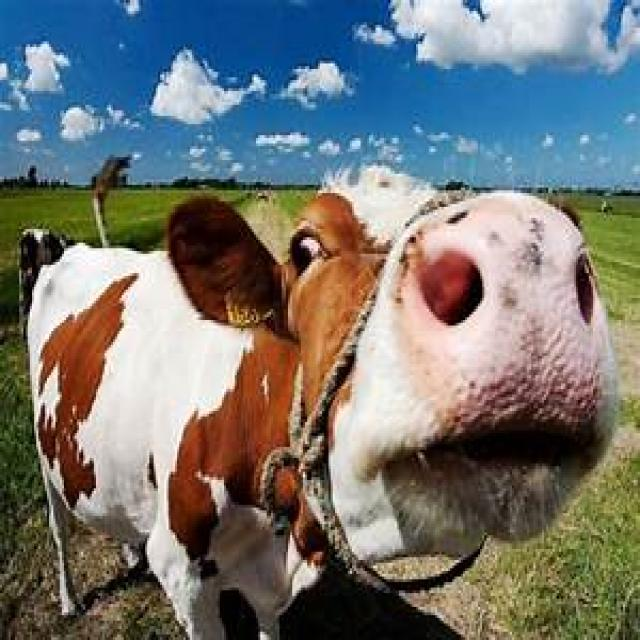cow: (19, 190, 623, 640)
